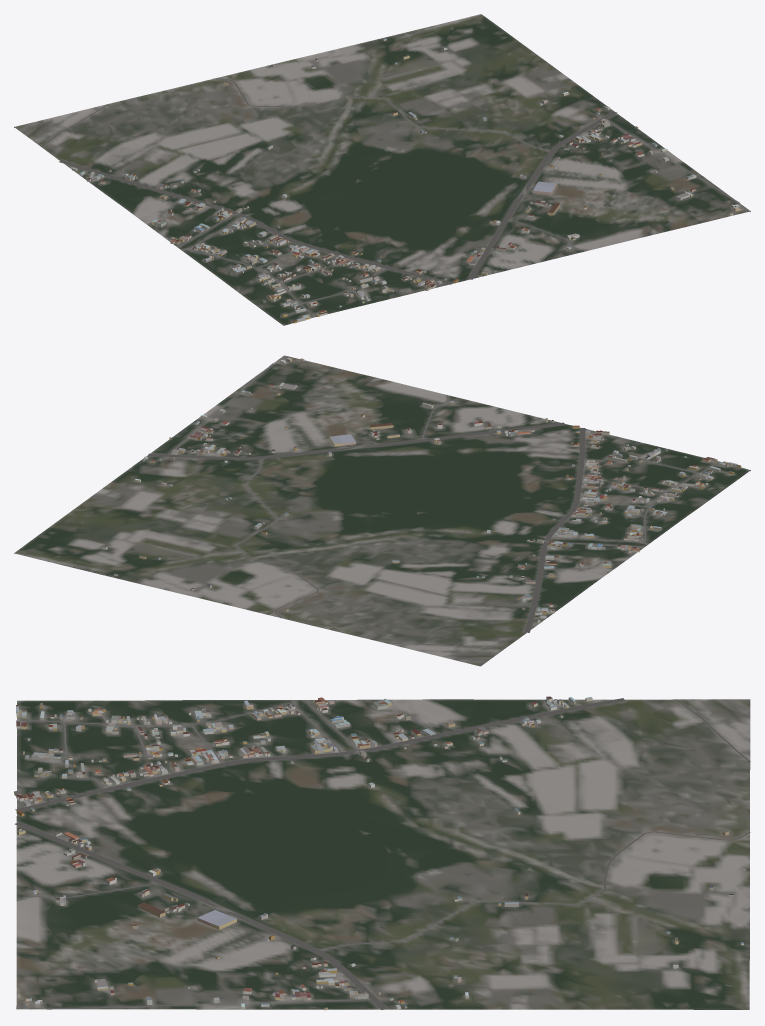
3 renders of one model, top to bottom at view 1: azimuth 30°, elevation 25°; view 2: azimuth 150°, elevation 25°; view 3: azimuth 270°, elevation 25°, orthographic. The views are drawn at different scales.
Visible parts, largest first — view 1: ground, buildings, roads; view 2: ground, buildings, roads; view 3: ground, buildings, roads.
Part boxes in pixels (x1,y1,x2,y2): ground: [14, 14, 750, 325]; buildings: [72, 38, 741, 323]; roads: [41, 78, 746, 317]; ground: [14, 355, 750, 666]; buildings: [103, 357, 741, 623]; roads: [148, 356, 719, 646]; ground: [16, 699, 750, 1009]; buildings: [14, 696, 745, 1010]; roads: [14, 698, 750, 1009].
Size of the model in its own units: 1408 by 16.22 by 1408.
